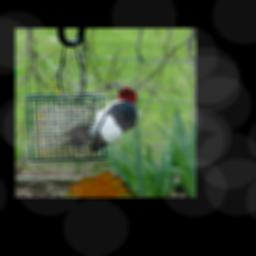Woodpecker: (62, 82, 138, 153)
